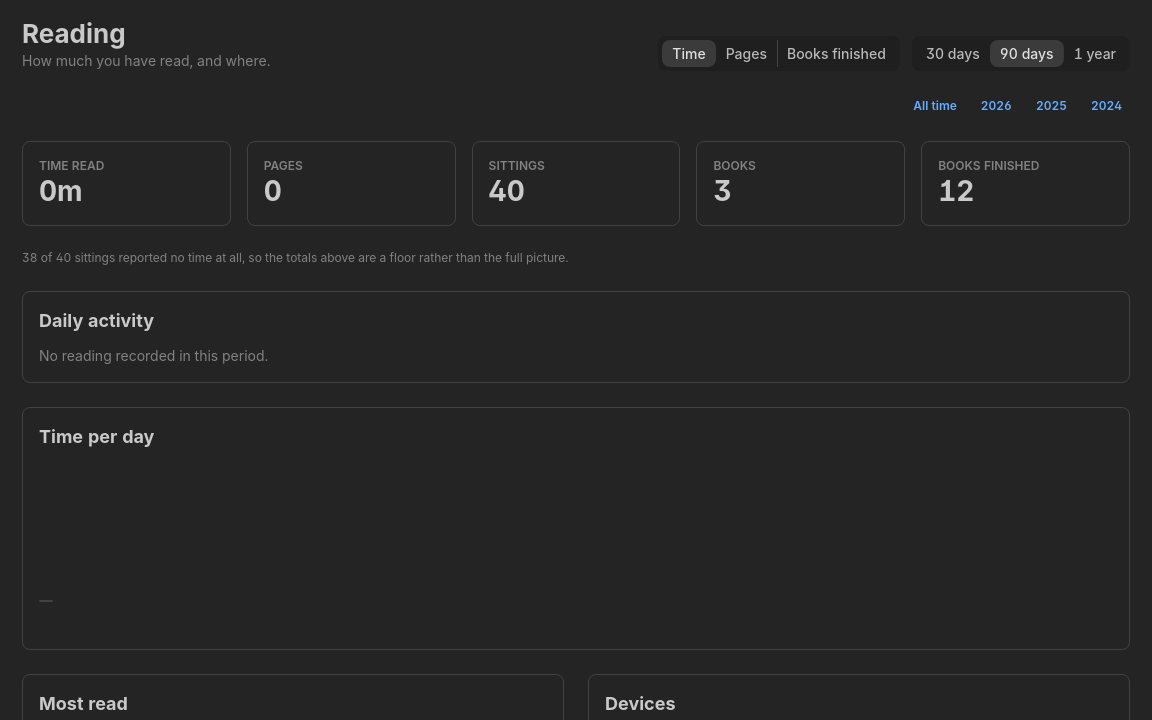
Test case: ReadingStats › drops the missing-time caveat when not showing time
Expected: the text "38 of 40 sittings reported no time" is shown, [22,250,569,265]
Click the radio button labelled "Books finished": point(836, 53) [787,45,886,62]
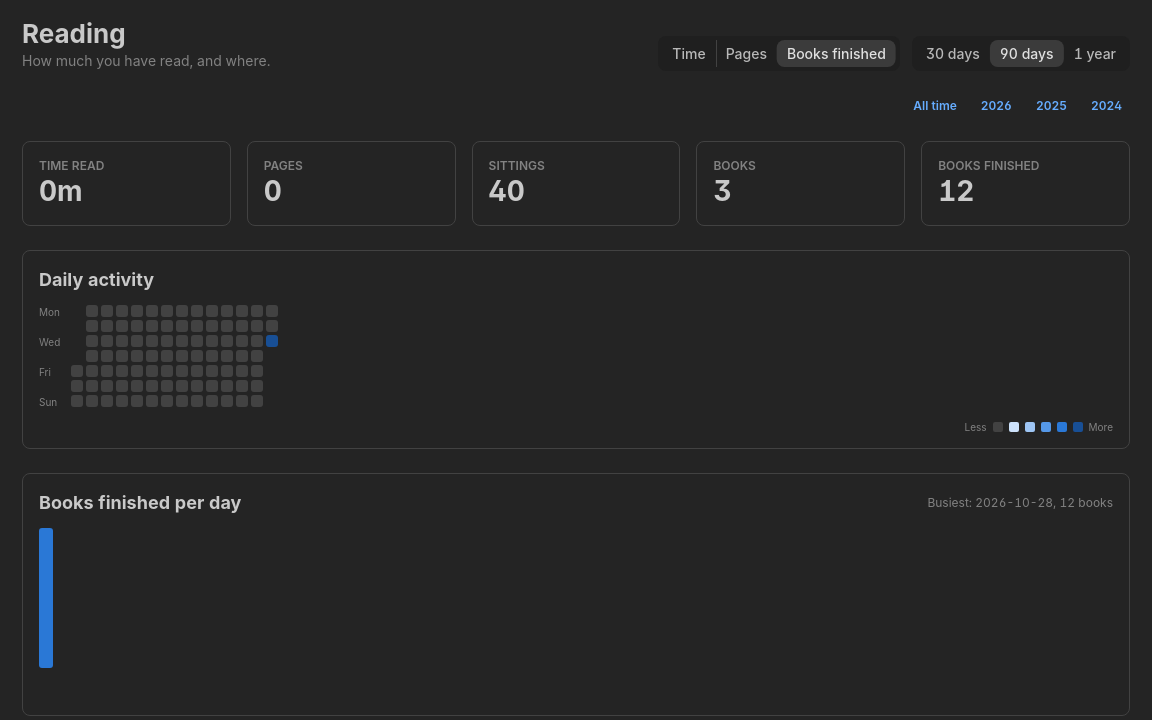
Expected: the text "38 of 40 sittings reported no time" is gone
